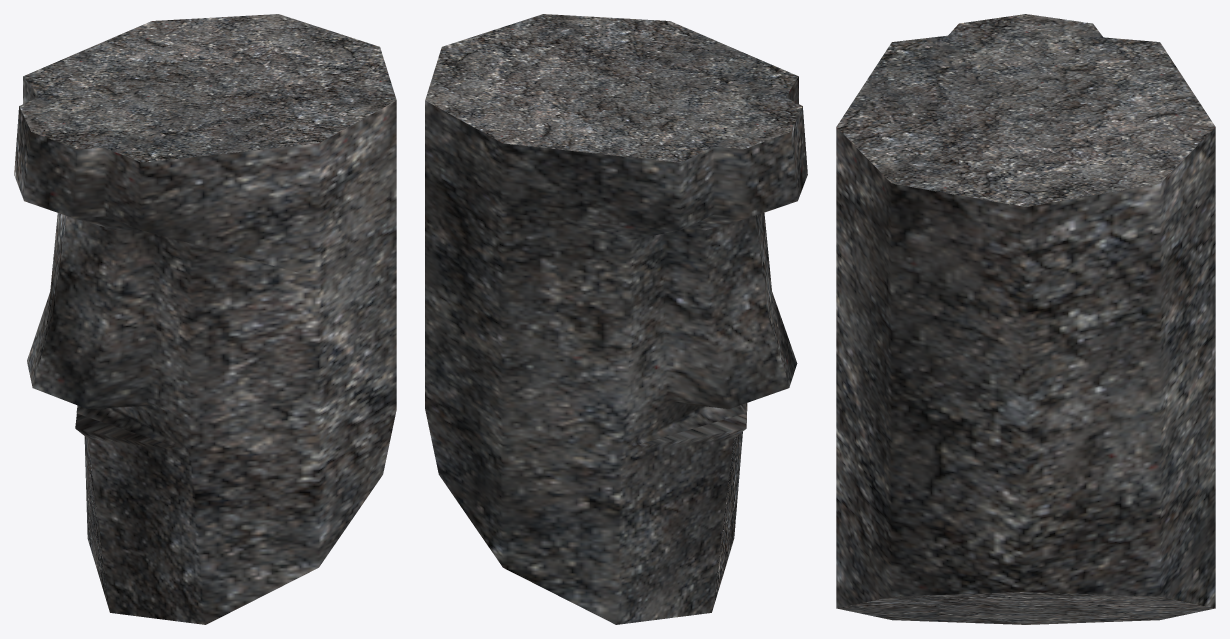
The model's file is moai.FBX.
3 renders of one model, left to right at view 1: azimuth 30°, elevation 25°; view 2: azimuth 150°, elevation 25°; view 3: azimuth 270°, elevation 25°, orthographic. The views are drawn at different scales.
Parts seen in each view (by area): view 1: Cylinder001; view 2: Cylinder001; view 3: Cylinder001.
Part boxes in pixels (x1,y1,x2,y2): Cylinder001: (14,14,396,624); Cylinder001: (425,14,807,624); Cylinder001: (836,14,1215,624).
Bounding box in the file's own units: 62.26 × 83.55 × 50.62.
1 material, 1 textured.
